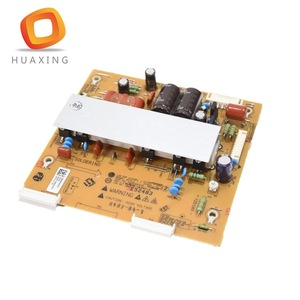capacitor: (154, 83, 179, 113), (178, 87, 196, 118), (216, 154, 232, 184), (145, 66, 157, 91), (116, 78, 129, 92), (194, 110, 206, 120)
resistor: (188, 172, 205, 182), (197, 197, 207, 212), (229, 124, 236, 136), (199, 224, 210, 231), (223, 123, 228, 135)
